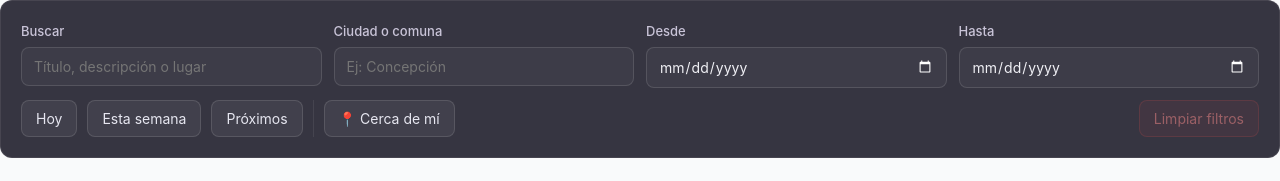
Test: EventFilters — texto y ubicación › sets the location when a comuna is picked from the list
This screenshot has width=1280, height=181.
Type "conce" into the dropdown labelled "Ciudad o comuna" at (484, 66), box x1=334 y1=47 x2=634 y2=86
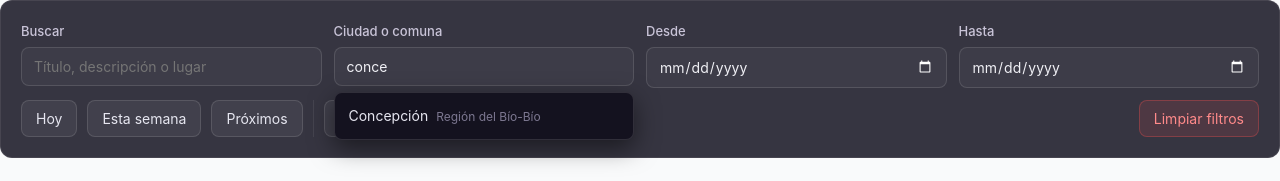
Click the option "Concepción" at (445, 115), box x1=348 y1=107 x2=541 y2=124
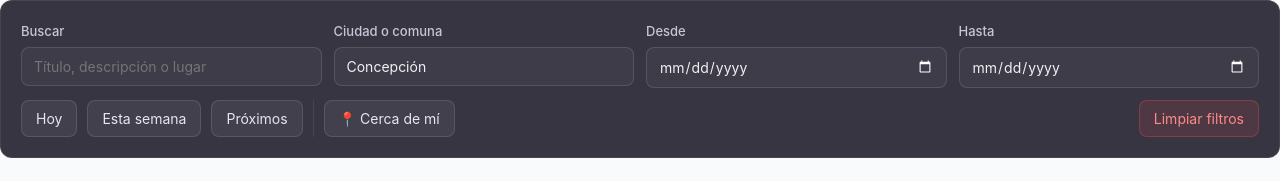
Expected: the dropdown labelled "Ciudad o comuna" holds "Concepción", x1=334 y1=47 x2=634 y2=86
